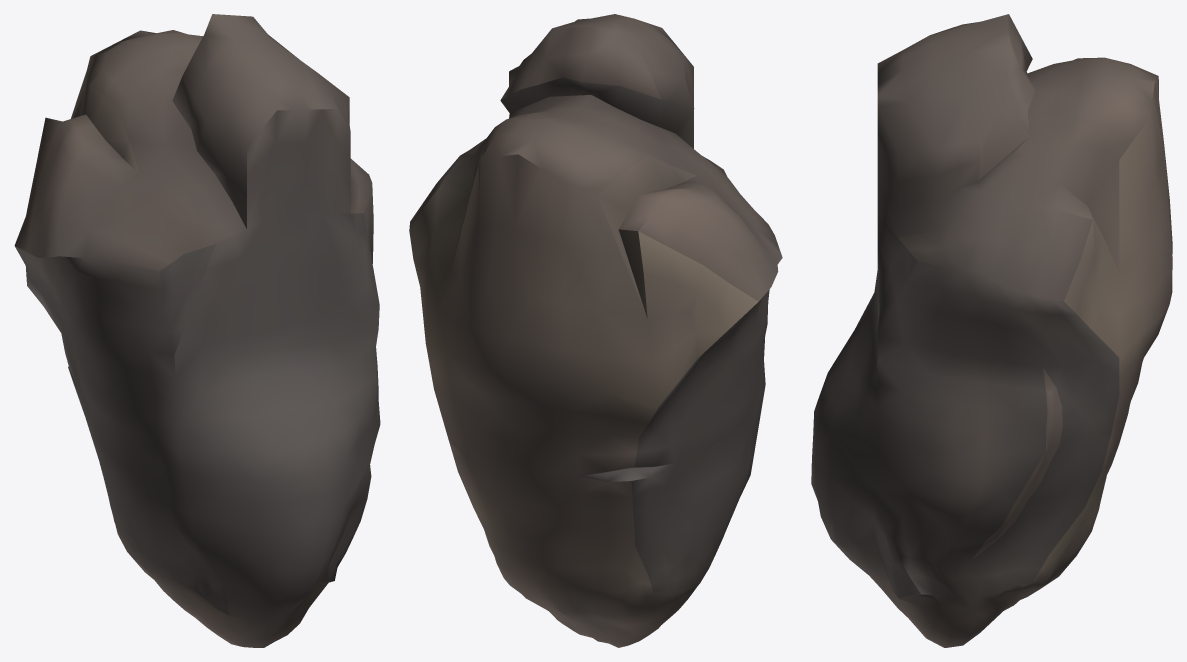
The model's file is RockHuge.005.glb.
The picture shows the model from 3 angles, left to right: view 1: azimuth 30°, elevation 25°; view 2: azimuth 150°, elevation 25°; view 3: azimuth 270°, elevation 25°; orthographic projection. The views are drawn at different scales.
Parts seen in each view (by area): view 1: RockHuge.005; view 2: RockHuge.005; view 3: RockHuge.005.
Part boxes in pixels (left/top/right/bottom): RockHuge.005: left=14, top=14, right=380, bottom=647; RockHuge.005: left=409, top=14, right=782, bottom=647; RockHuge.005: left=811, top=14, right=1172, bottom=647.
Size of the model in its own units: 2323 by 4099 by 2164.
